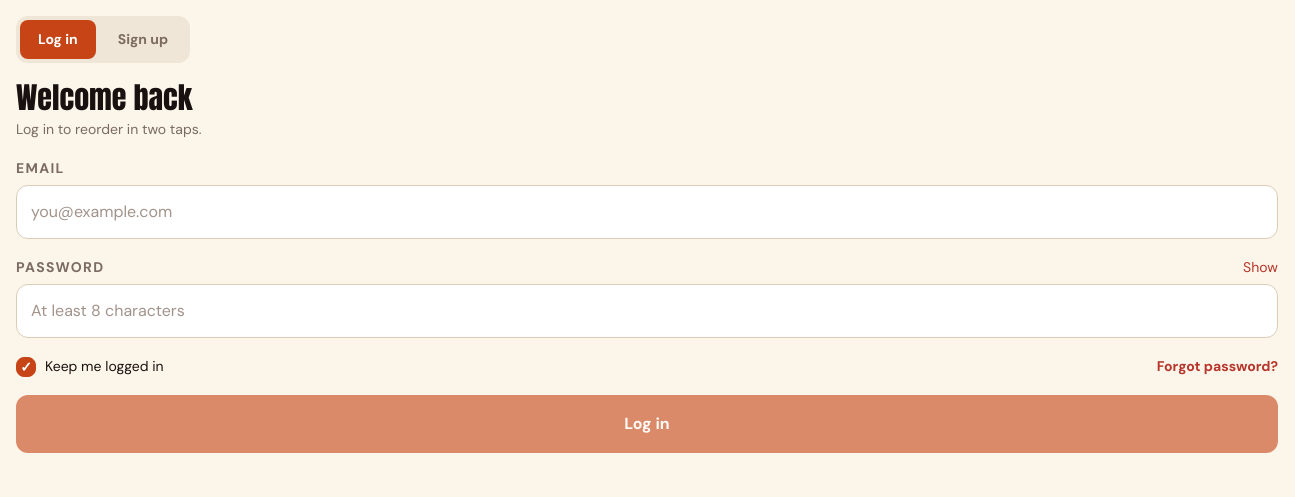
Test case: real-time validation › shows an error under the field while typing, before any submit
This screenshot has width=1295, height=497.
Type "liza@" into the field labelled "Email".
click(647, 212); type("liza@")  # box [16, 185, 1278, 239]
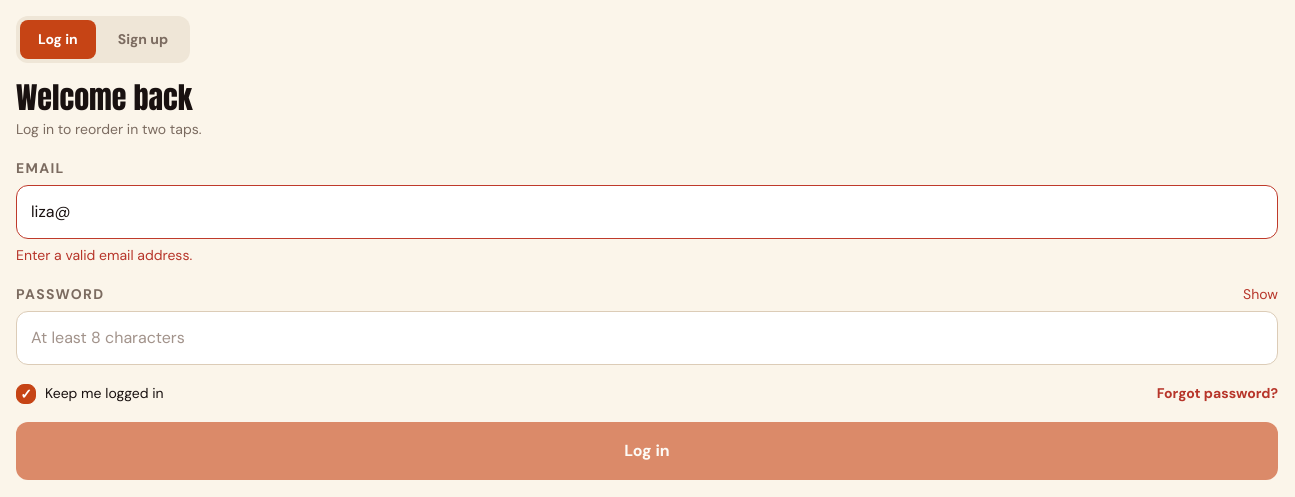
Expected: the text "Enter a valid email address." is shown, [16, 246, 192, 264]
